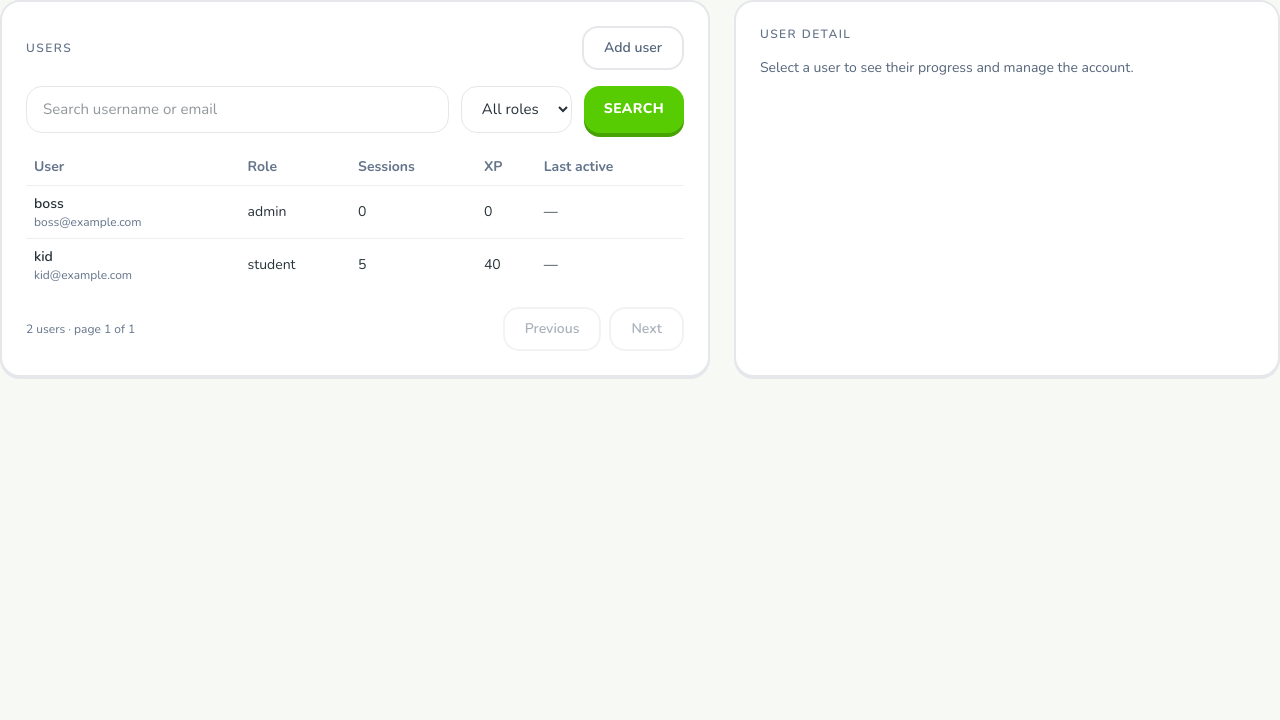
it: UsersTab › disables role, deactivate and delete on your own account
Click the button "boss".
click(49, 204)  # box x1=34 y1=194 x2=64 y2=214
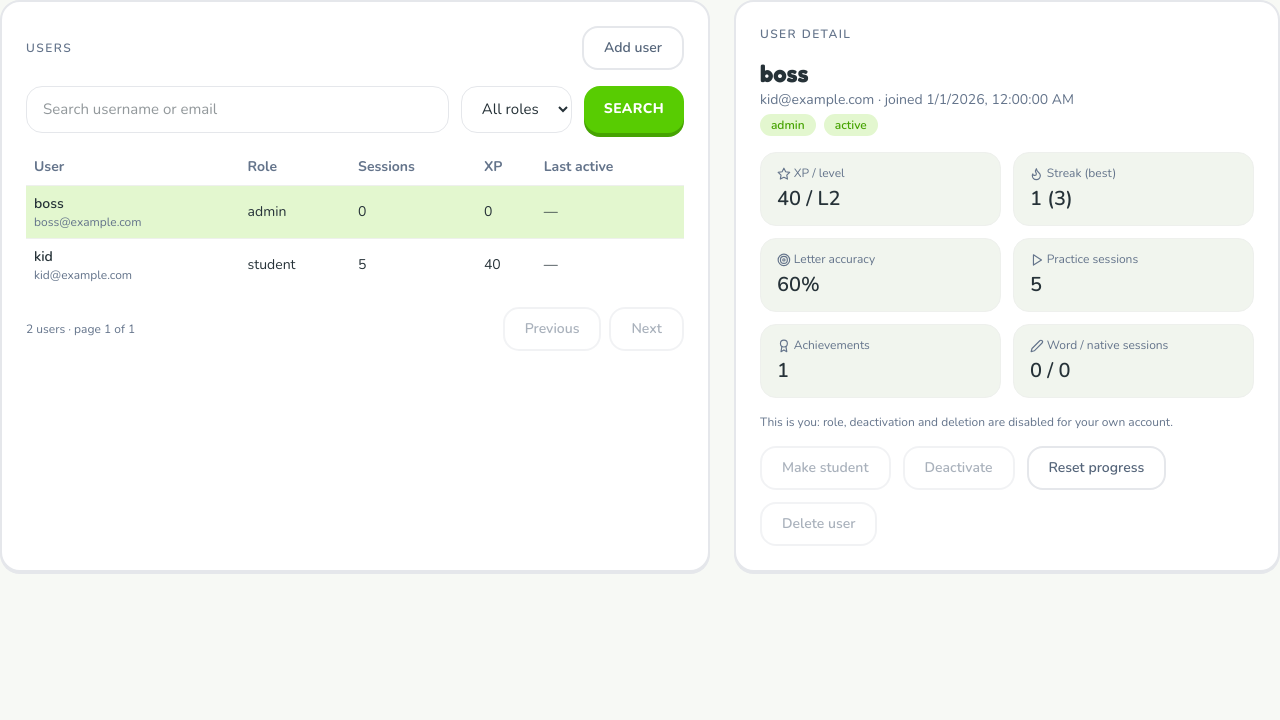
Check: the button "Make student" is disabled, box x1=760 y1=446 x2=890 y2=490
Check: the button "Deactivate" is disabled, box x1=902 y1=446 x2=1014 y2=490
Check: the button "Delete user" is disabled, box x1=760 y1=502 x2=877 y2=546
